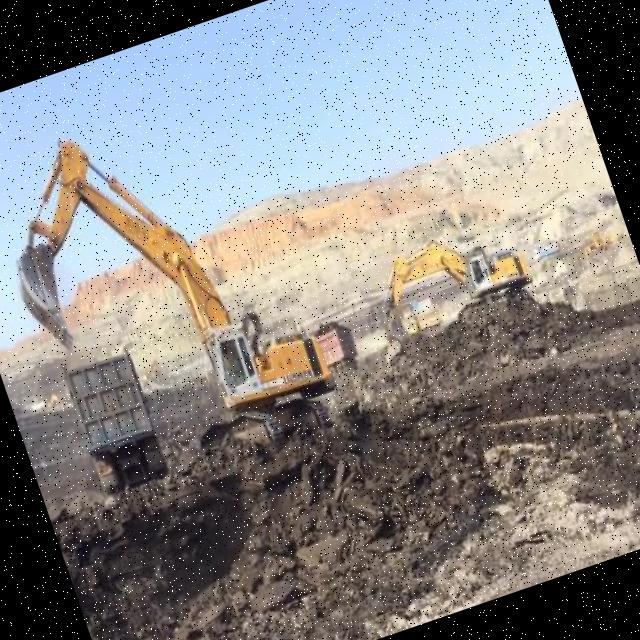Dump Truck: (57, 340, 170, 502)
Excavator: (0, 73, 348, 512), (356, 204, 544, 370)
